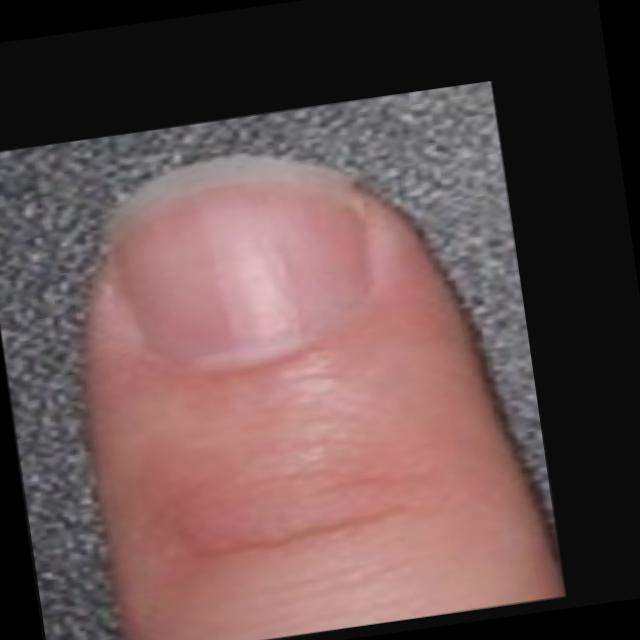Nail: (112, 155, 368, 374)
